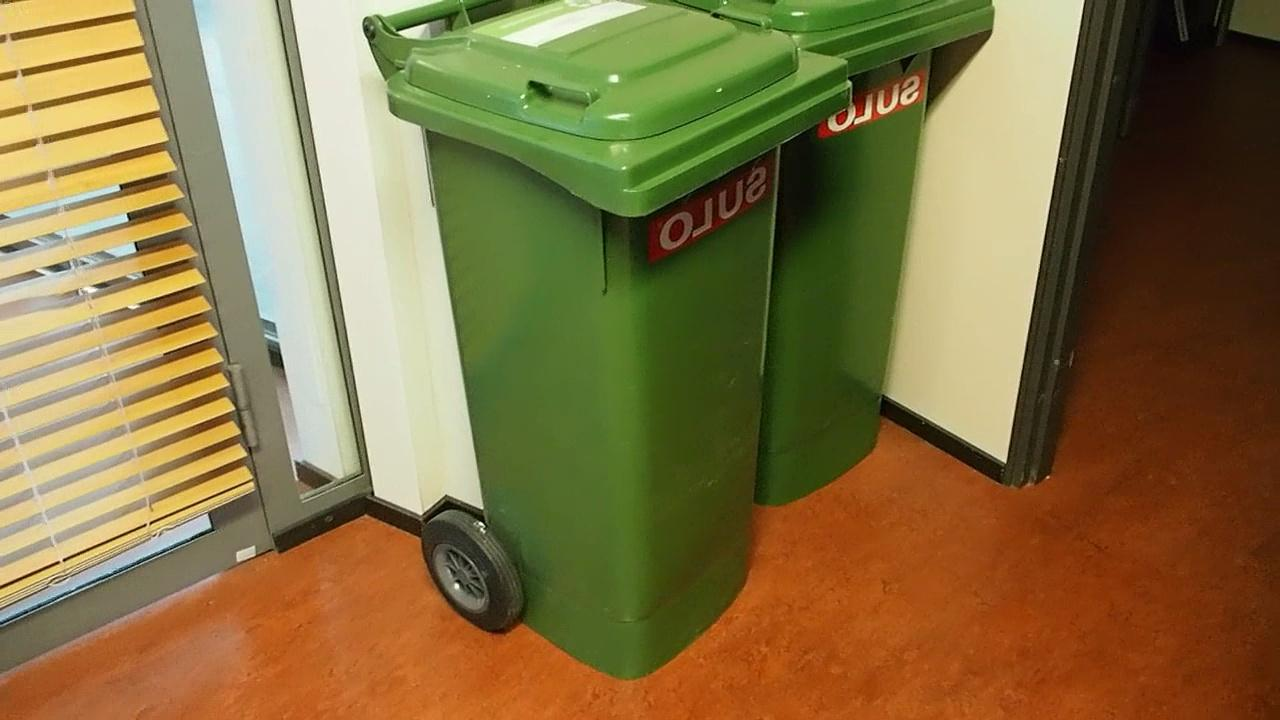trashbin: (363, 2, 852, 684), (855, 0, 1002, 422)
